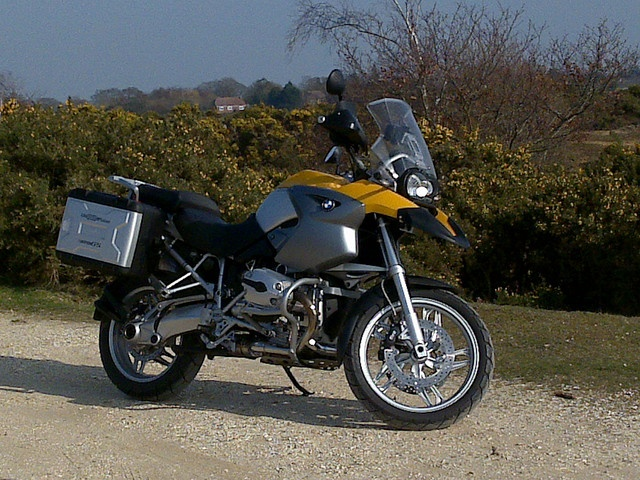bike: (51, 64, 559, 443)
